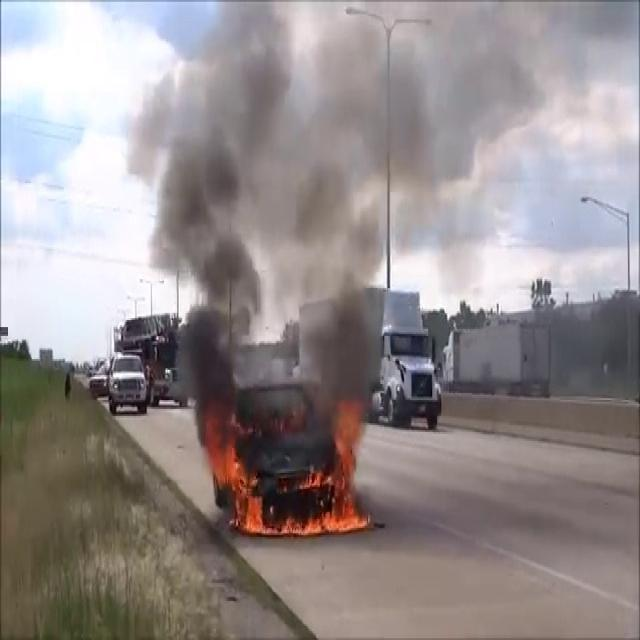Fire: (206, 402, 374, 540), (204, 412, 261, 534)
Smoke: (133, 1, 544, 394)
